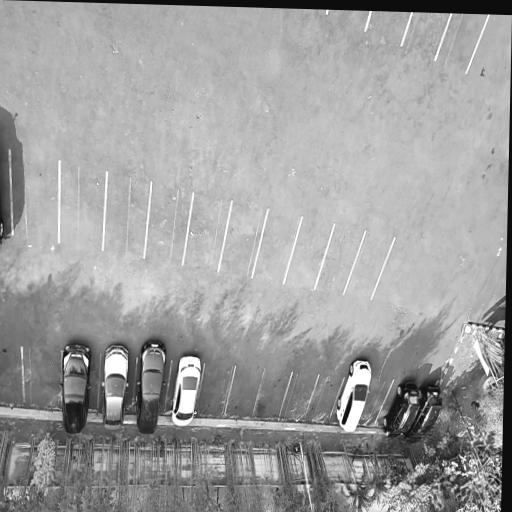Car: (134, 338, 169, 436), (330, 357, 374, 434), (374, 379, 420, 449), (60, 342, 94, 436), (168, 352, 204, 429), (401, 385, 444, 449), (100, 343, 131, 431)
Space Available: (11, 150, 59, 243), (103, 172, 152, 259), (59, 162, 106, 252), (144, 182, 193, 265), (183, 193, 232, 273), (218, 201, 268, 279), (252, 210, 302, 286), (343, 231, 395, 302), (284, 217, 334, 290), (314, 225, 365, 296), (436, 13, 489, 74), (403, 12, 451, 61), (22, 348, 61, 408), (195, 364, 236, 416), (225, 368, 265, 418), (253, 369, 293, 418), (280, 372, 319, 420), (305, 375, 344, 421), (366, 11, 412, 46), (359, 380, 393, 427), (0, 346, 24, 403)
